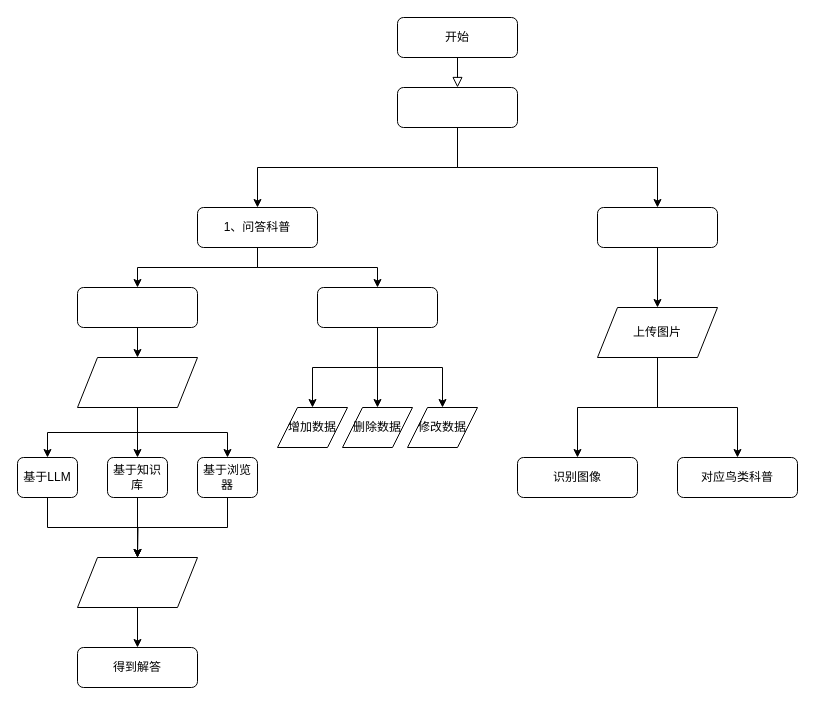
Some shapes in this 815 by 705 pixel diagram are drawn without their labels. The box of each missing label's shape, as (x1, y1, x2, y2) in pixels:
2、图片科普: (596, 206, 718, 248)
知识库: (316, 286, 438, 328)
科普问答: (76, 286, 198, 328)
输入问题: (76, 556, 198, 608)
选择: (76, 356, 198, 408)
首页选择功能1/2: (396, 86, 518, 128)
